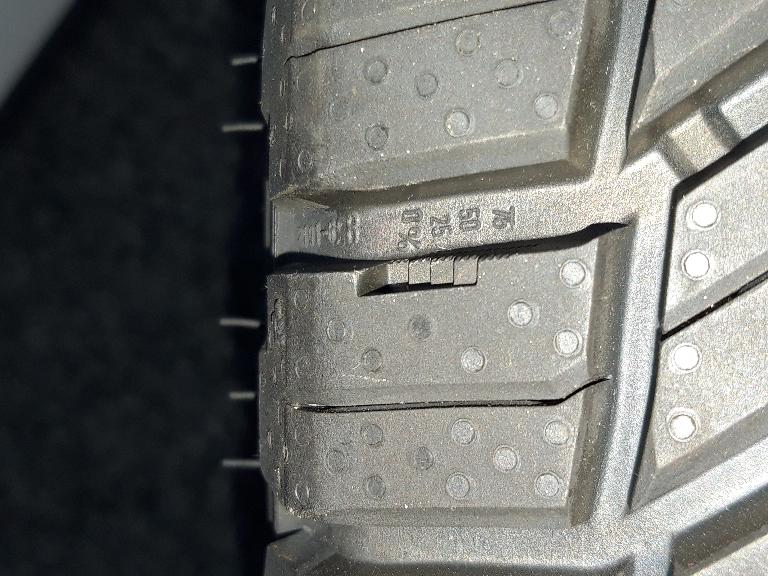temoin:100: (351, 240, 521, 303)
